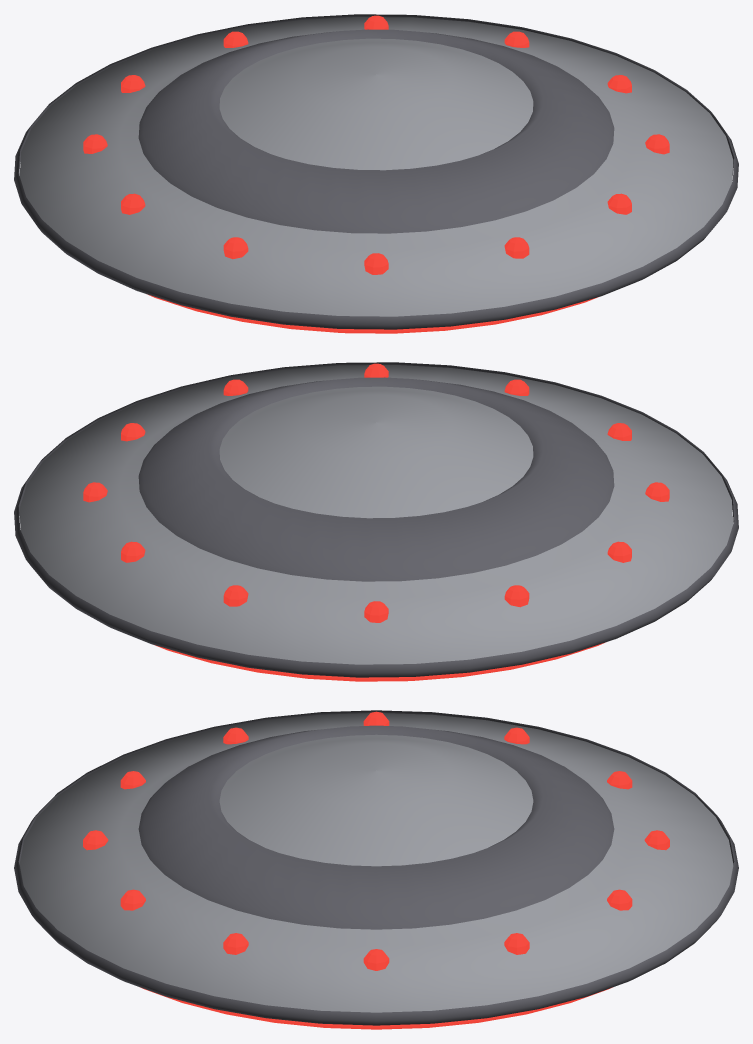
File: saucer.glb
The picture shows the model from 3 angles, top to bottom: view 1: azimuth 30°, elevation 25°; view 2: azimuth 150°, elevation 25°; view 3: azimuth 270°, elevation 25°; orthographic projection.
Visible parts, largest first — view 1: Saucer; view 2: Saucer; view 3: Saucer.
Part boxes in pixels (box(x1,y1,x2,y2)): Saucer: box(14, 14, 738, 333); Saucer: box(14, 362, 738, 681); Saucer: box(14, 710, 738, 1029).
Size of the model in its own units: 15.24 by 3.9 by 15.24.
